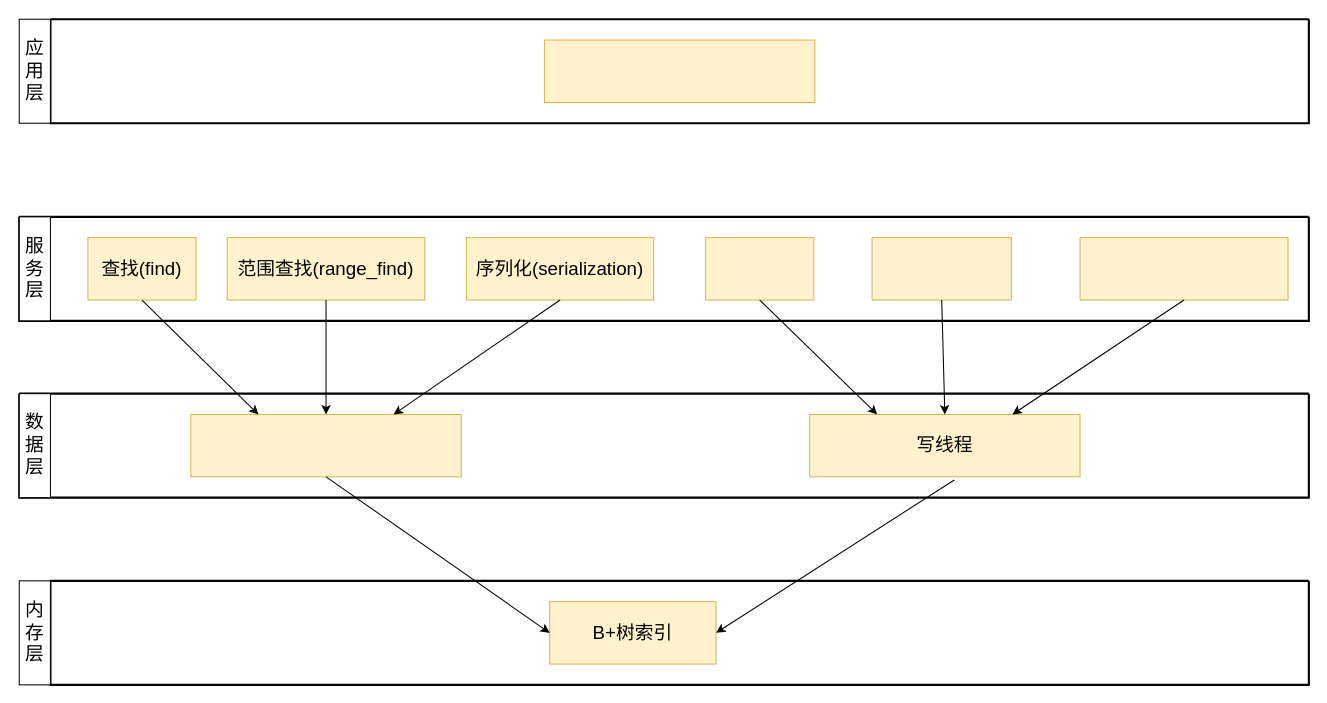
Image size: 1327x703. Some labels were removed from this diagram. The centre of each missing label's shape, as x and y in pixels:
"内存B+树系统" belongs at (679,70).
"删除(remove)" belongs at (941,268).
"反序列化(deserialization)" belongs at (1183,268).
"插入(insert)" belongs at (759,268).
"读线程" belongs at (325,445).
